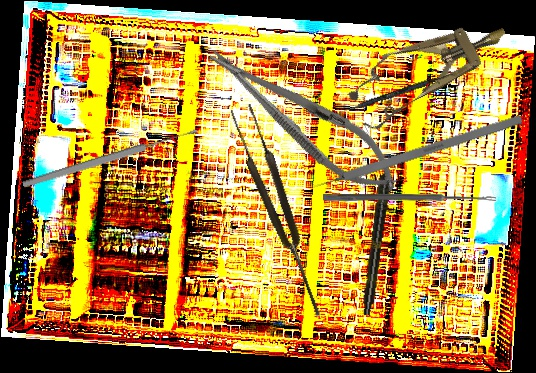Handpiece: (359, 152, 397, 317)
Hook Surgical: (299, 114, 524, 196)
Needle Holder: (196, 29, 412, 209)
Spatula Surgical: (331, 69, 454, 120)
Speculum: (339, 1, 520, 137)
Surgical Spoon: (21, 126, 199, 190), (323, 194, 496, 202)
Tissue Forceps: (227, 101, 331, 322)
